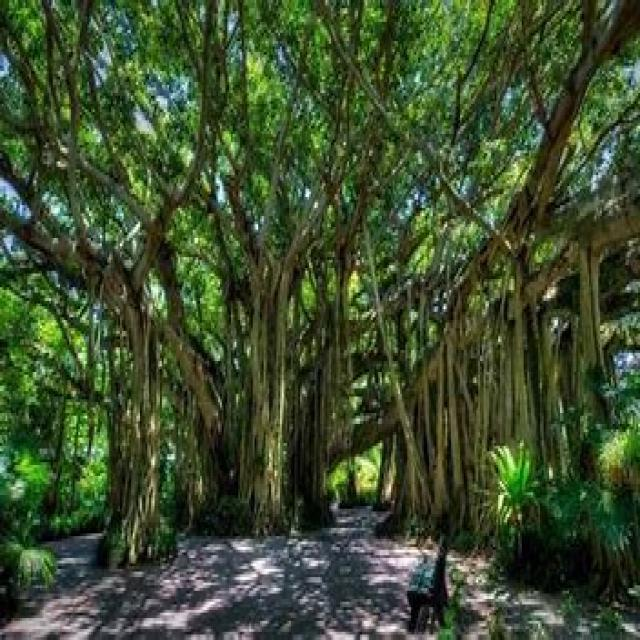Banyan-Tree: (0, 0, 640, 640), (155, 189, 403, 554), (350, 268, 614, 582), (78, 221, 225, 566)
